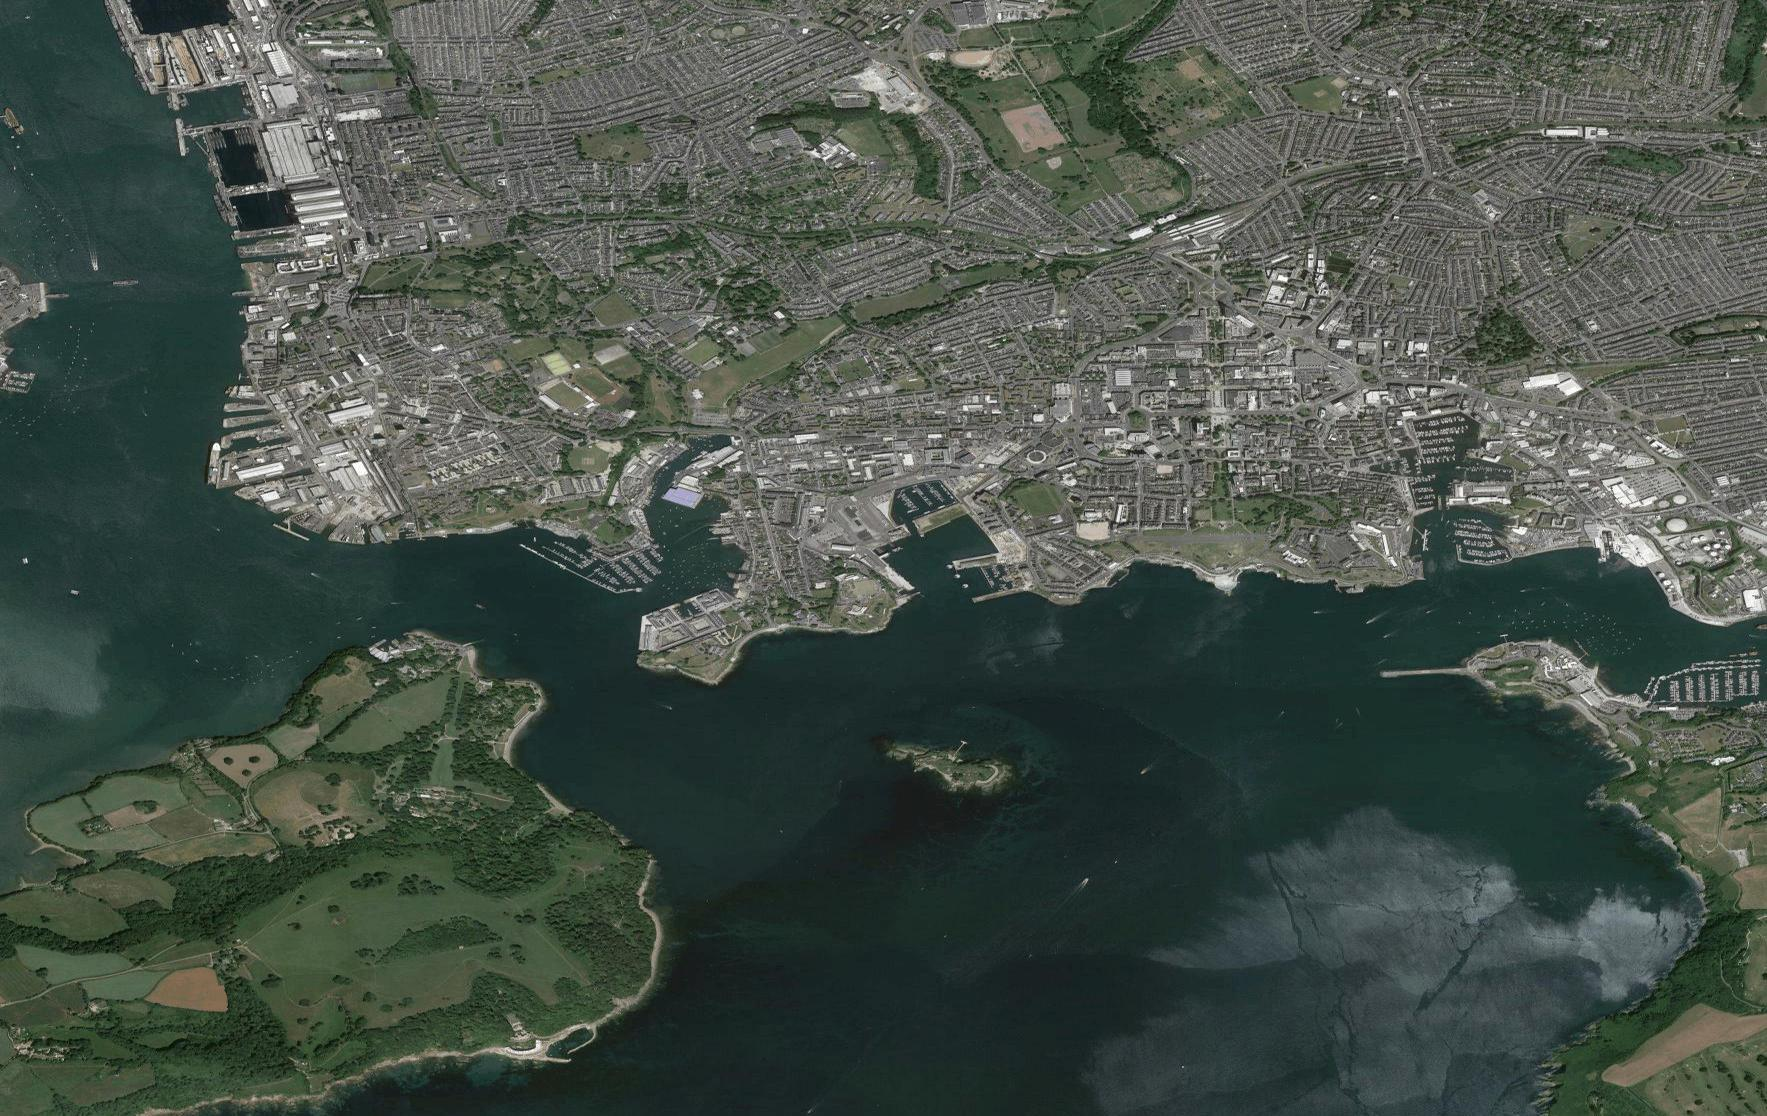harbor: (511, 480, 738, 615), (1381, 408, 1546, 579), (878, 474, 1028, 625), (1618, 634, 1767, 723)
train_station: (1160, 203, 1239, 244)
